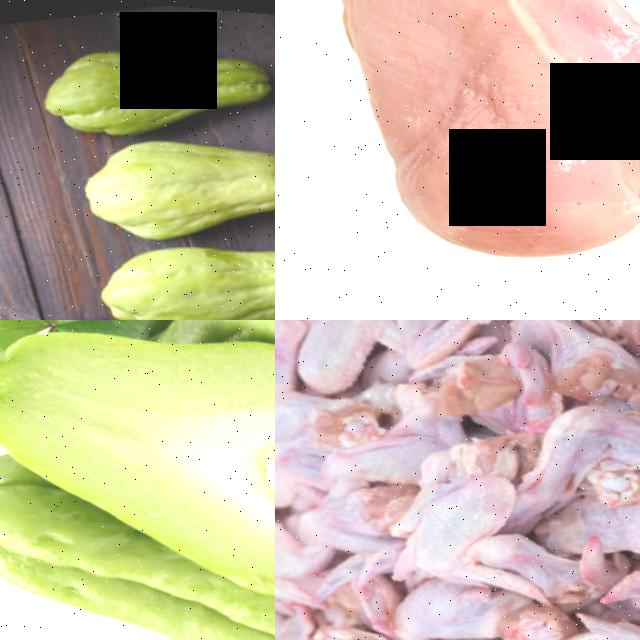chayote: (0, 320, 275, 634), (2, 0, 275, 161), (48, 95, 275, 263), (0, 437, 184, 640), (75, 206, 275, 320)
chicken breast: (275, 0, 640, 320)
chicken wing: (364, 431, 549, 623), (578, 480, 640, 639)
